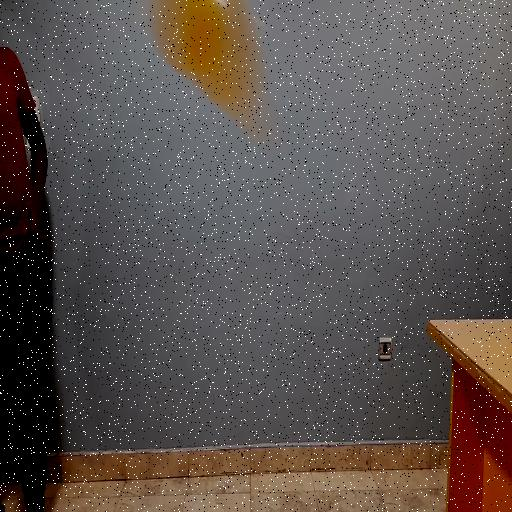plastic-ball: (151, 0, 263, 119)
